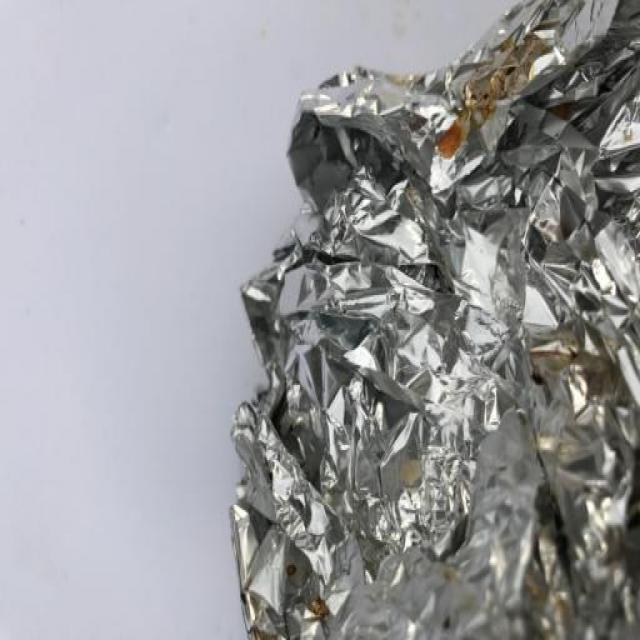others: (172, 5, 640, 615)
